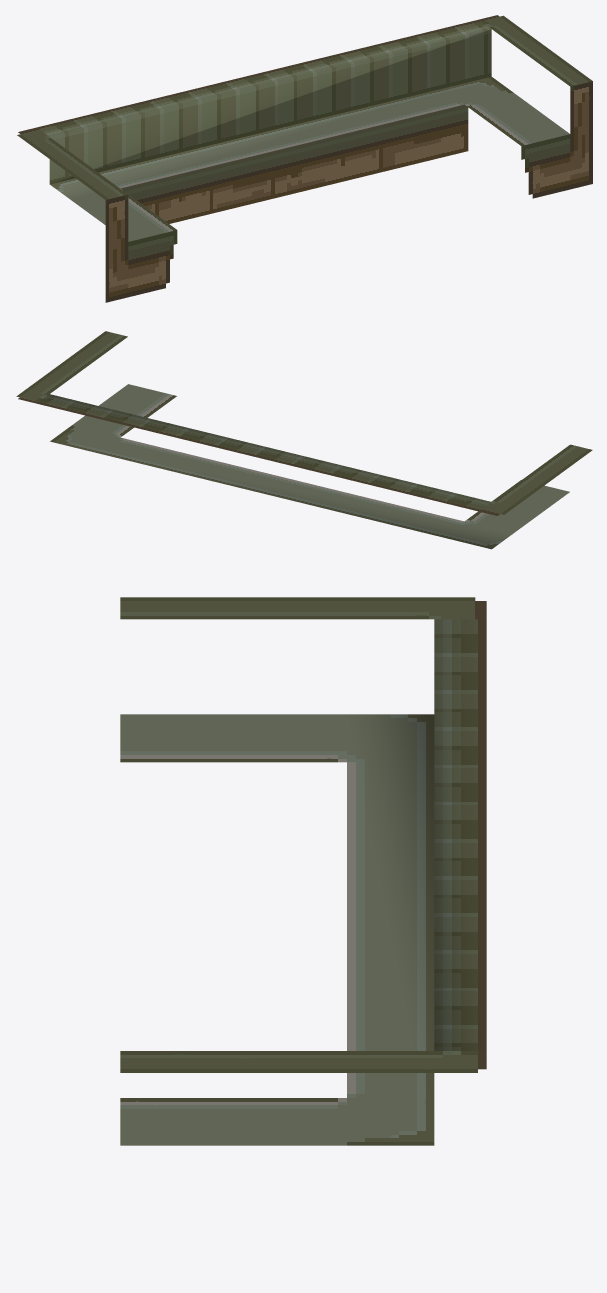
File: bench_booth.gltf
3 renders of one model, top to bottom at view 1: azimuth 30°, elevation 25°; view 2: azimuth 150°, elevation 25°; view 3: azimuth 270°, elevation 25°, orthographic. The views are drawn at different scales.
Parts seen in each view (by area): view 1: bench_booth-col; view 2: bench_booth-col; view 3: bench_booth-col.
Part boxes in pixels (left/top/right/bottom): bench_booth-col: left=17, top=15, right=592, bottom=302; bench_booth-col: left=16, top=331, right=592, bottom=549; bench_booth-col: left=120, top=597, right=486, bottom=1145.
Size of the model in its own units: 8.06 by 1.62 by 2.63.
Materials: 1 (1 with a texture image).
